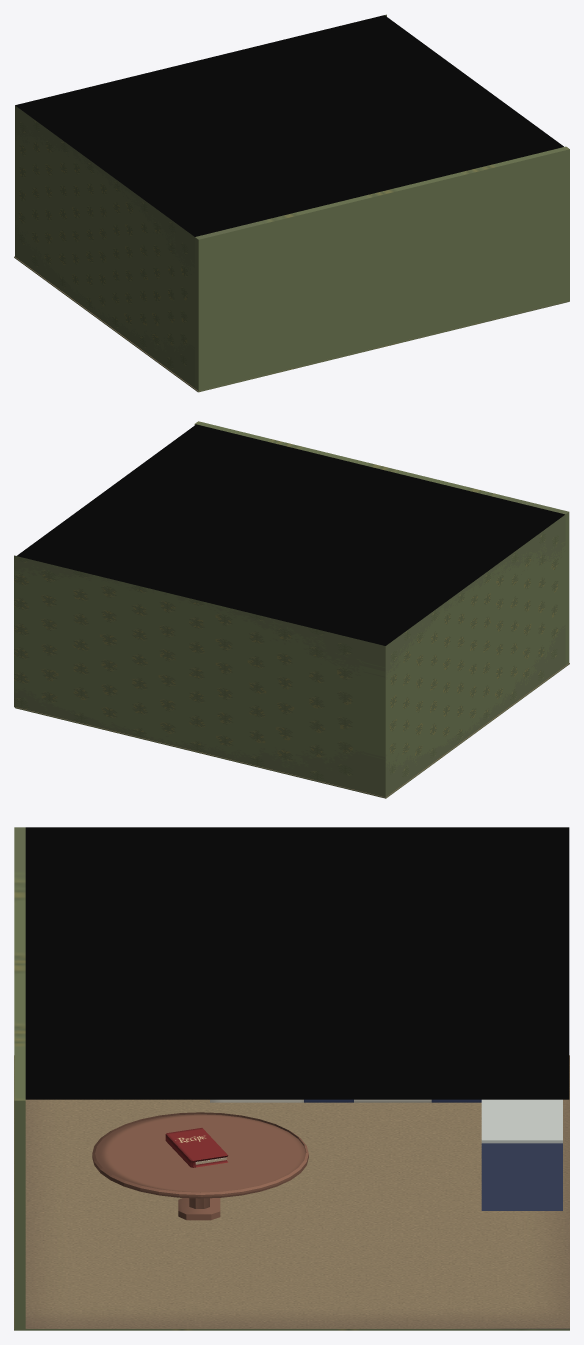
The model's file is readykitchen.glb.
The picture shows the model from 3 angles, top to bottom: view 1: azimuth 30°, elevation 25°; view 2: azimuth 150°, elevation 25°; view 3: azimuth 270°, elevation 25°; orthographic projection. The views are drawn at different scales.
Visible parts, largest first — view 1: room; view 2: room; view 3: room, table, shelf, book.
Part boxes in pixels (bbox=[...]): room: bbox=[14, 14, 569, 392]; room: bbox=[14, 421, 569, 798]; room: bbox=[14, 827, 569, 1330]; table: bbox=[92, 1112, 308, 1220]; shelf: bbox=[210, 1099, 562, 1210]; book: bbox=[165, 1128, 228, 1167].
Size of the model in its own units: 45.67 by 17.85 by 39.09.
12 materials, 8 textured.
